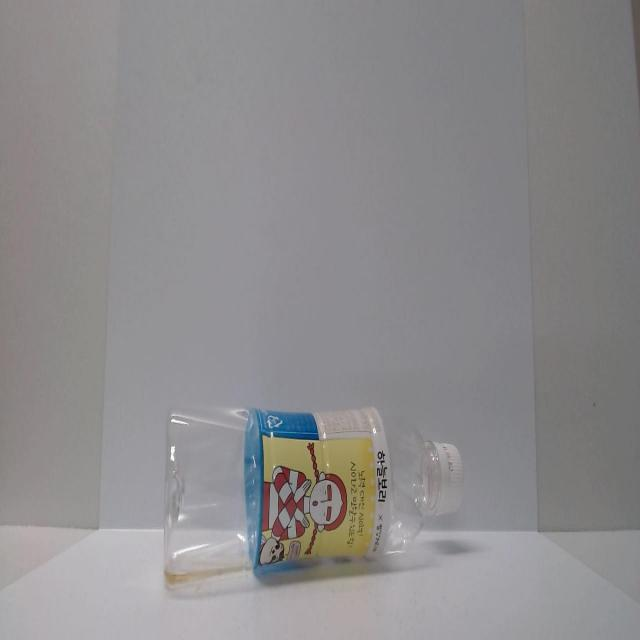bottle: (156, 383, 472, 593)
